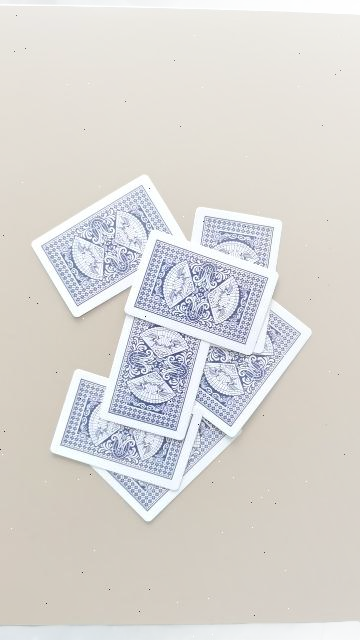card: (31, 175, 185, 316), (125, 230, 279, 355), (51, 370, 201, 490), (195, 301, 311, 436), (94, 419, 235, 521), (101, 315, 209, 440), (191, 208, 282, 269)
